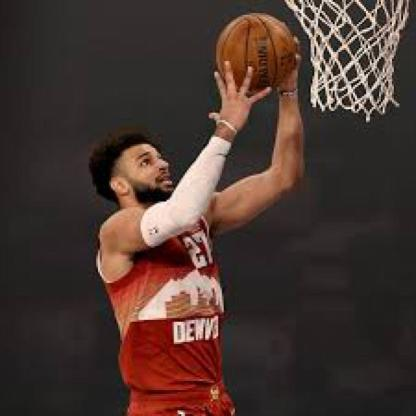basketball: (214, 12, 294, 92)
